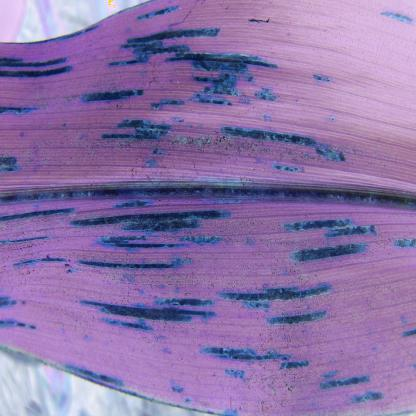corn leaf blight: (2, 11, 416, 405)
